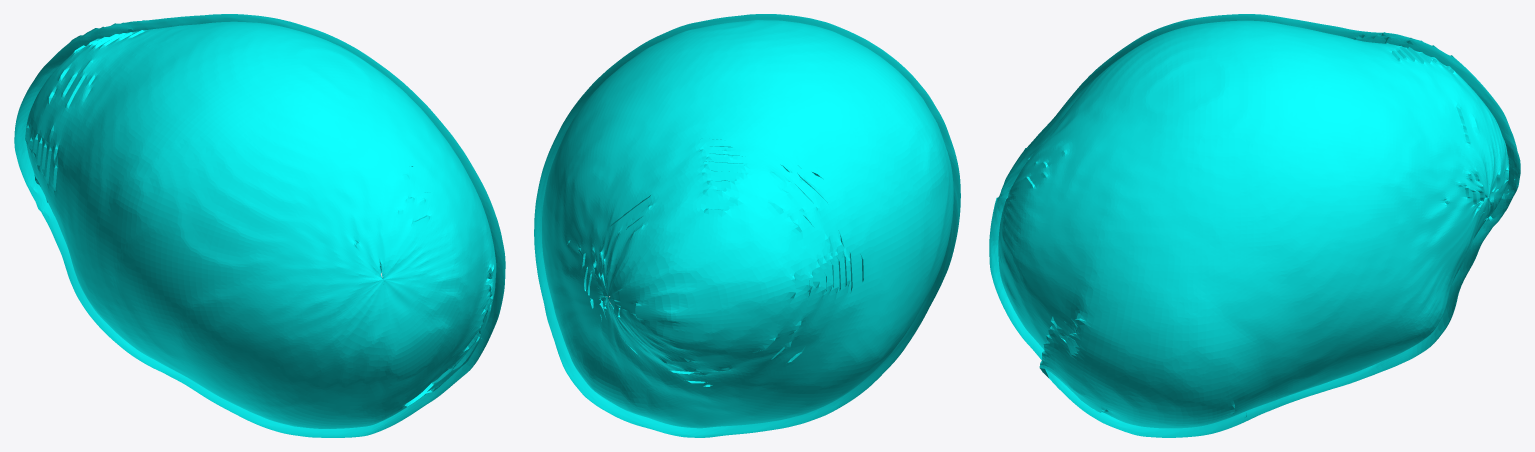
3 renders of one model, left to right at view 1: azimuth 30°, elevation 25°; view 2: azimuth 150°, elevation 25°; view 3: azimuth 270°, elevation 25°, orthographic. The views are drawn at different scales.
Visible parts, largest first — view 1: Renderer Node; view 2: Renderer Node; view 3: Renderer Node.
Boxes of the visible parts, <box> form: Renderer Node: <box>14,14,505,437</box>; Renderer Node: <box>534,14,960,437</box>; Renderer Node: <box>989,14,1520,437</box>.
Bounding box in the file's own units: 5.16e+09 × 4.96e+09 × 6.52e+09.
